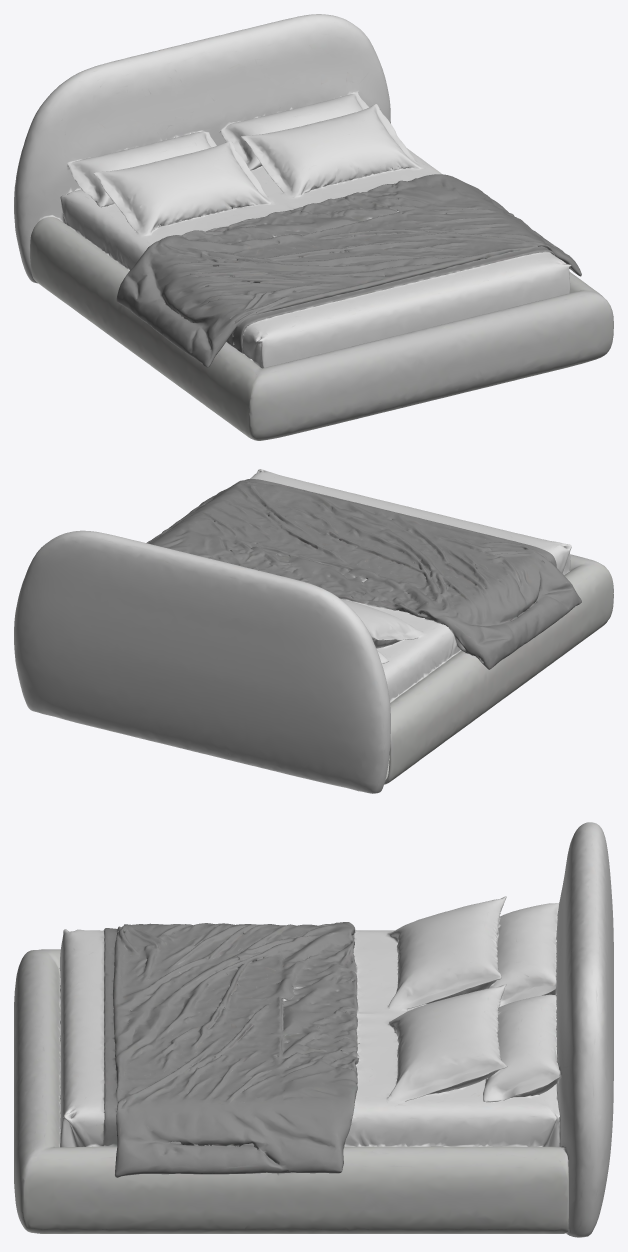
Rendered from modern_bed_gqyxz6.glb.
The picture shows the model from 3 angles, top to bottom: view 1: azimuth 30°, elevation 25°; view 2: azimuth 150°, elevation 25°; view 3: azimuth 270°, elevation 25°; orthographic projection. The views are drawn at different scales.
Visible parts, largest first — view 1: world; view 2: world; view 3: world.
Part boxes in pixels (x1,y1,x2,y2): world: (14, 14, 613, 440); world: (14, 469, 613, 793); world: (14, 822, 613, 1237).
Size of the model in its own units: 0.8985 by 0.4441 by 1.
1 material, 1 textured.
